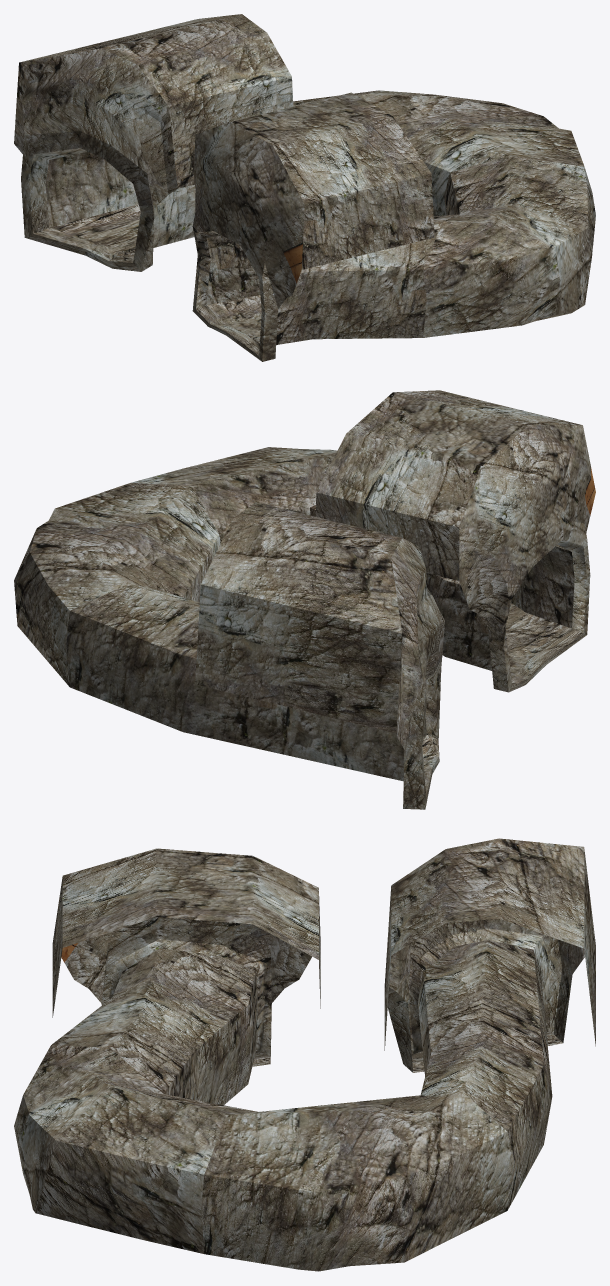
File: CaveTest.fbx
The picture shows the model from 3 angles, top to bottom: view 1: azimuth 30°, elevation 25°; view 2: azimuth 150°, elevation 25°; view 3: azimuth 270°, elevation 25°; orthographic projection. The views are drawn at different scales.
Parts seen in each view (by area): view 1: Cave; view 2: Cave; view 3: Cave.
Boxes of the visible parts, x1,y1,x2,y2 form: Cave: [14, 14, 595, 361]; Cave: [14, 390, 595, 809]; Cave: [14, 838, 595, 1271].
Size of the model in its own units: 58.73 by 25.33 by 56.99.
